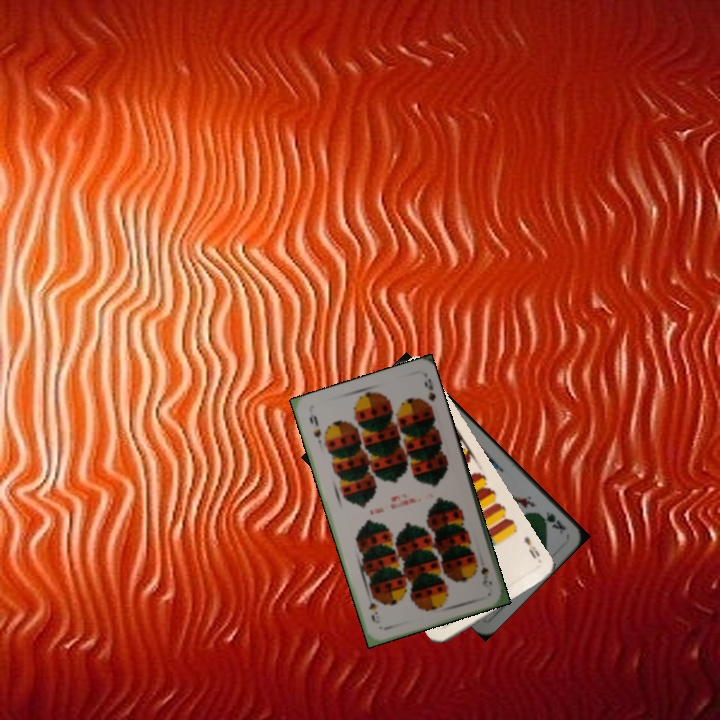E9: (519, 532, 542, 562)
GK: (534, 507, 568, 536)
S9: (305, 411, 324, 441), (477, 563, 495, 590)
